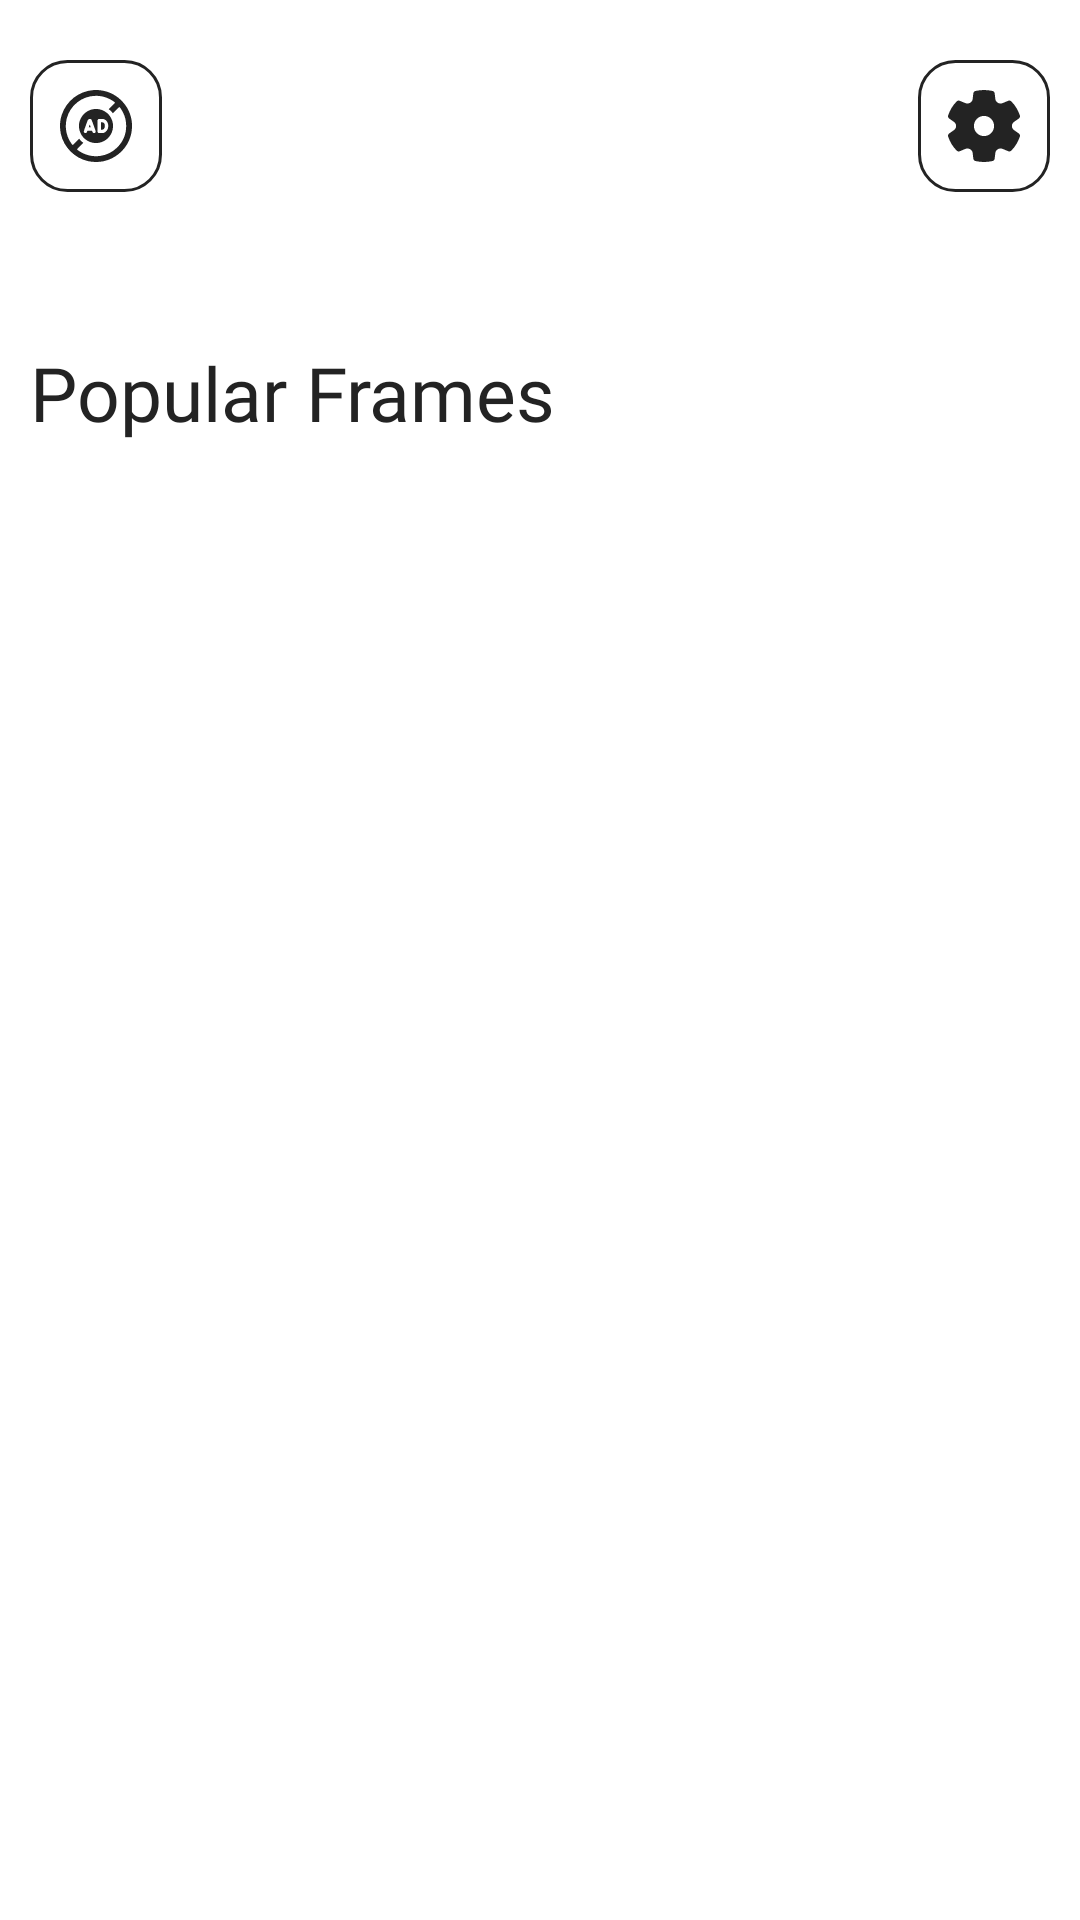

Named icons in this screenshot (1080 × 1920) and their centers, point (x, y):
Go to Settings Page: point (984, 126)
Remove advertisement: point (96, 126)
